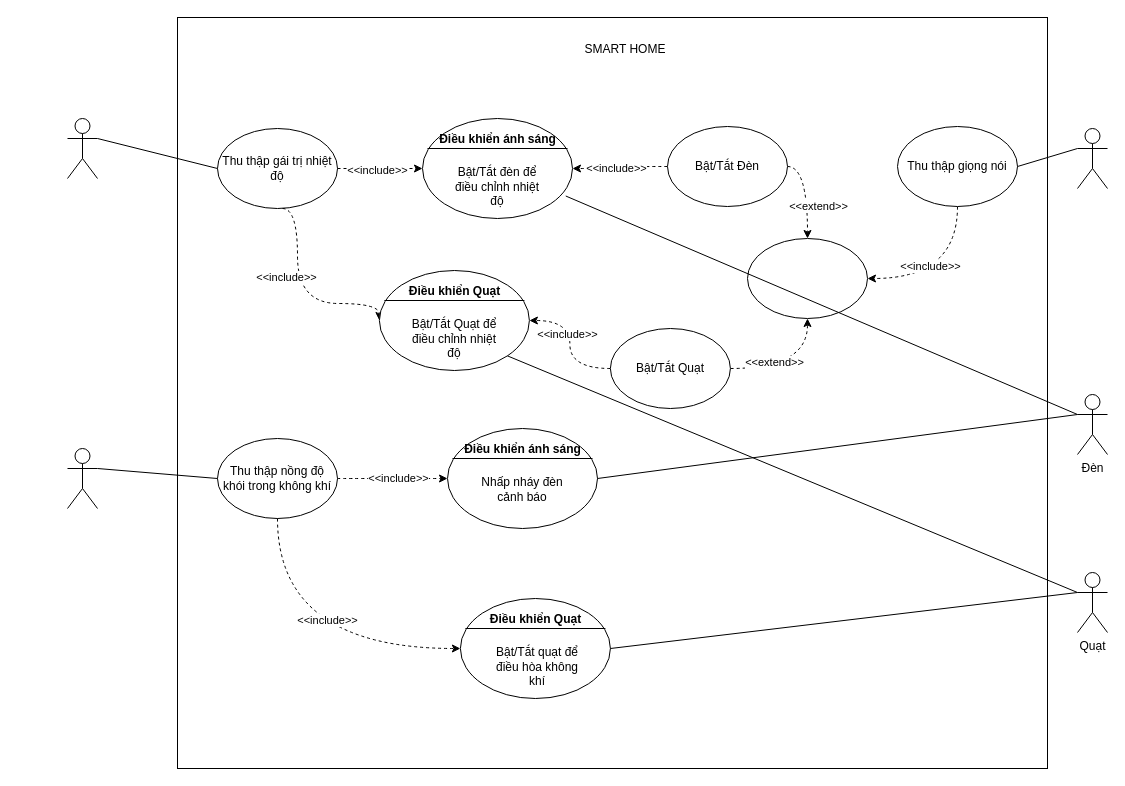
The diagram is 1125 pixels wide and 786 high, and some of its shapes have lost their labels. The box of each missing label's shape, as (x1, y1, x2, y2) in pixels:
Cảm biến khói (MQ135): (66, 448, 98, 508)
Cảm biến nhiệt (DHT22): (66, 118, 98, 178)
User: (1076, 128, 1108, 188)
Xử lý và nhận diện giọng nói: (746, 238, 868, 318)
